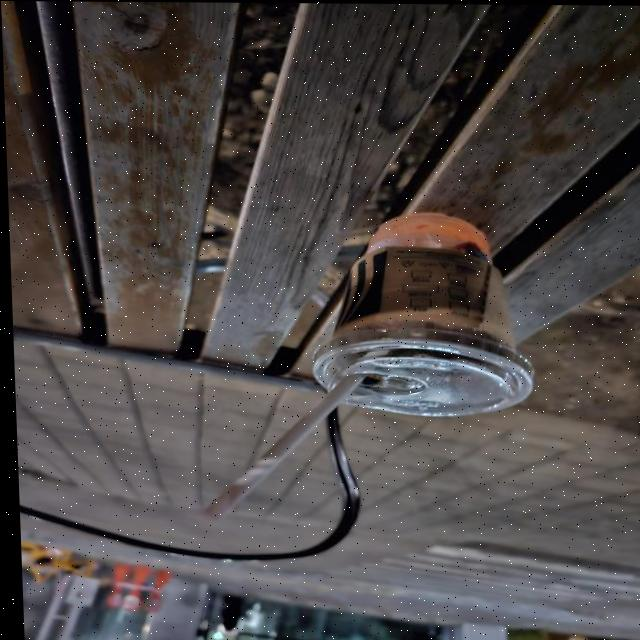cup: (299, 208, 537, 425)
